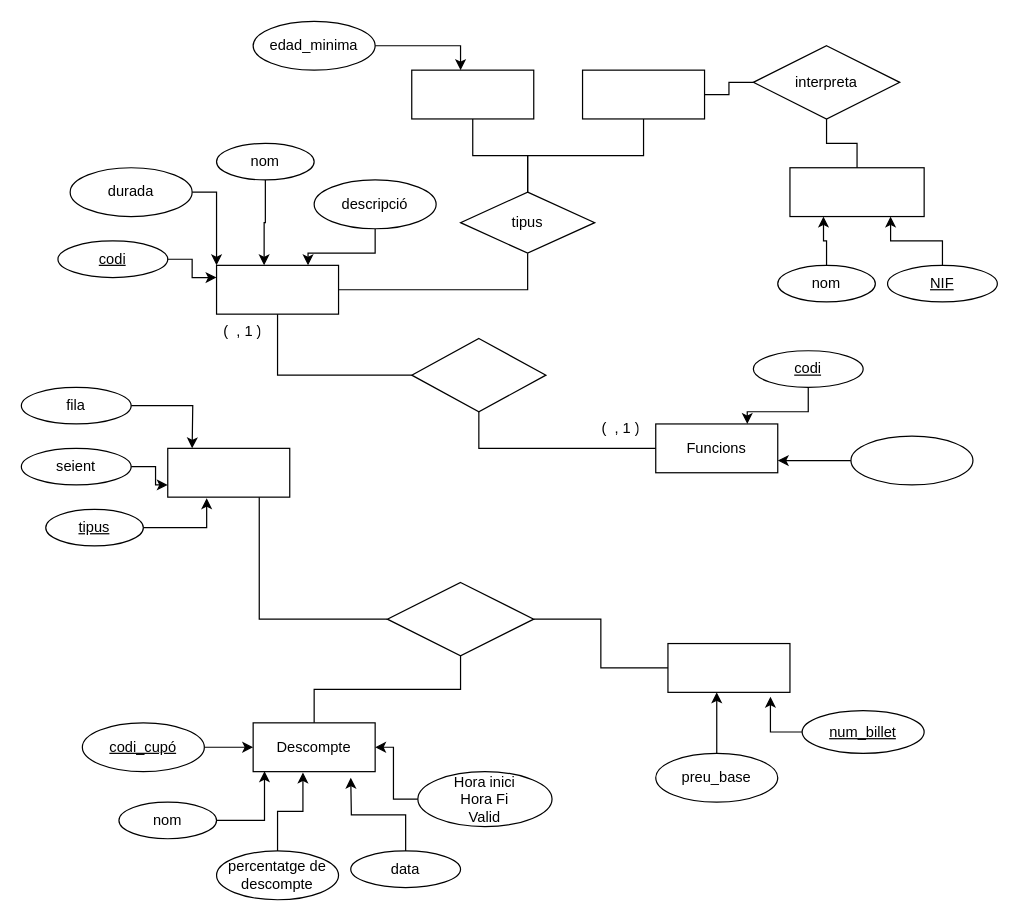
Image size: 1019x921. Some labels were removed from this diagram. The centre of each missing label's shape, as x and y in pixels:
Cinema: point (472, 94)
Companyia teatral: point (856, 192)
data i hora: point (911, 460)
Entrada: point (728, 667)
es fan: point (478, 374)
Espectacle: point (277, 289)
Localitat: point (228, 472)
Teatre: point (643, 94)
venta: point (460, 618)
